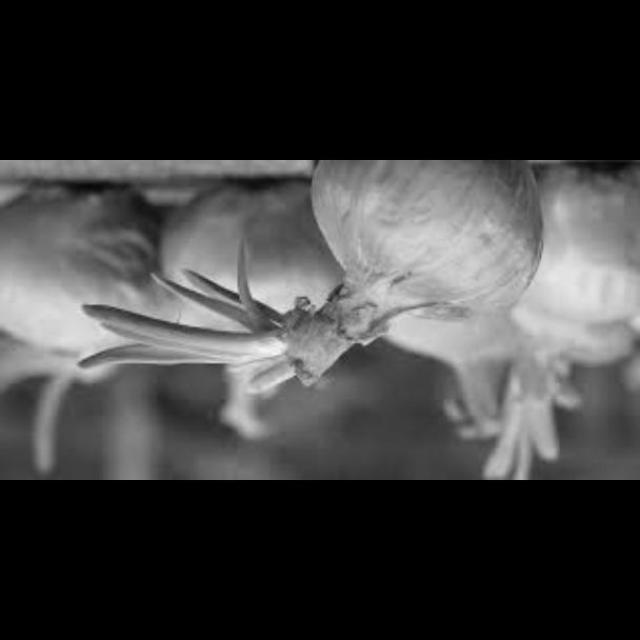cu hanh: (288, 161, 544, 342), (128, 176, 323, 354), (1, 160, 157, 360), (518, 165, 640, 362), (381, 286, 541, 405)
